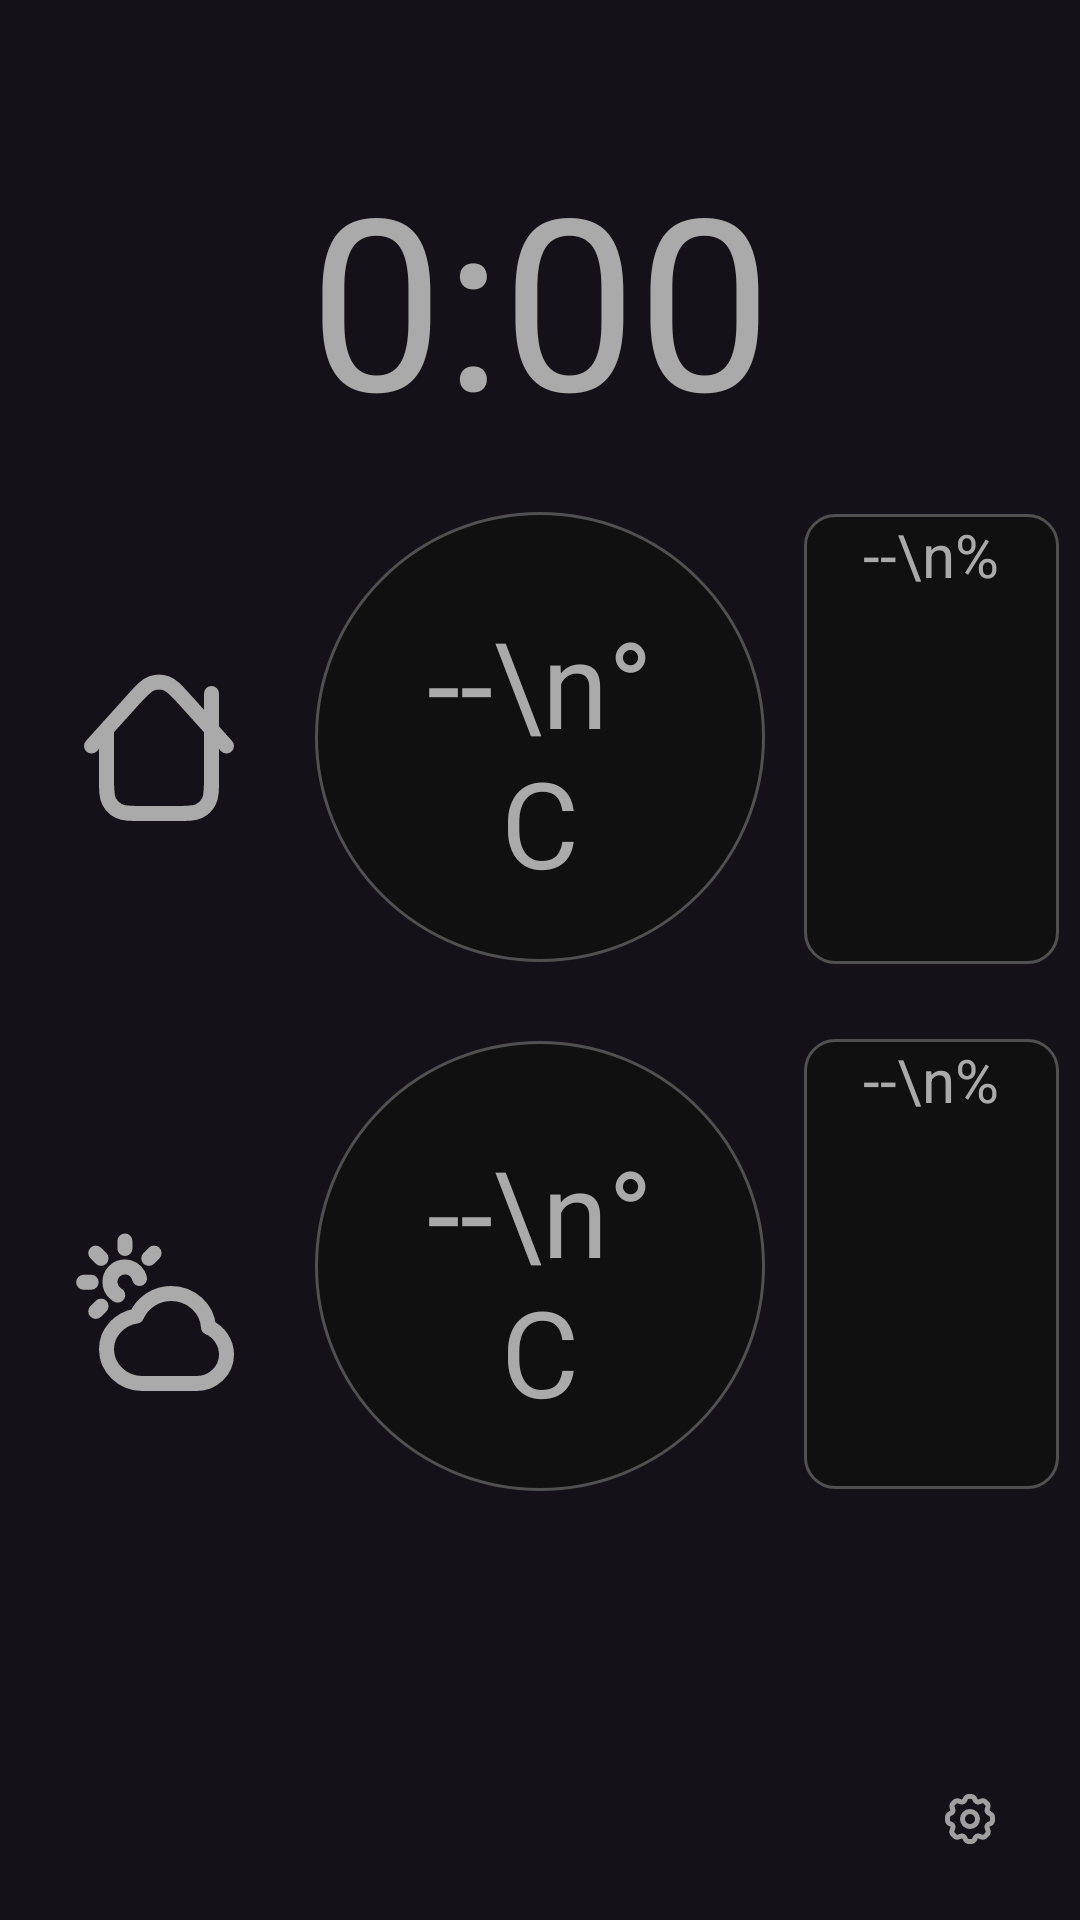

Icon click points for this 1080px x 1920px phone screenshot, format (x,y):
house: (159,747)
outside: (155,1312)
settings: (970,1819)
